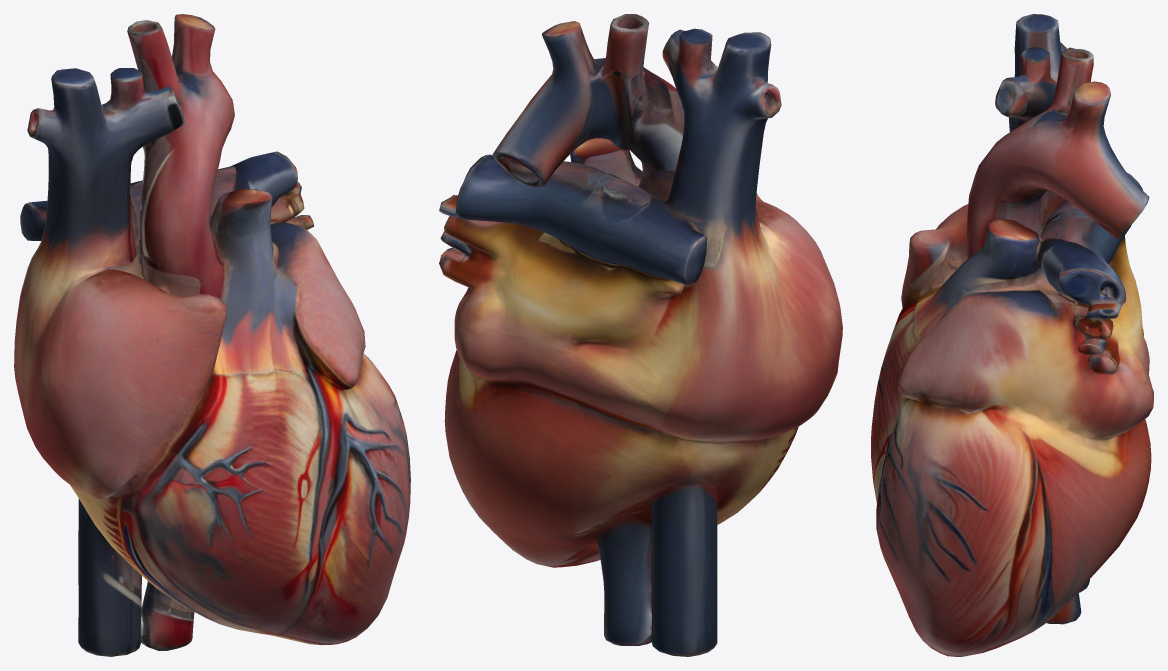
File: Meshy_AI_Anatomical_Heart_Mode_1225111650_texture.glb
3 renders of one model, left to right at view 1: azimuth 30°, elevation 25°; view 2: azimuth 150°, elevation 25°; view 3: azimuth 270°, elevation 25°, orthographic. The views are drawn at different scales.
Bounding box in the file's own units: 1.21 × 2.01 × 0.9222.
1 material, 1 textured.
